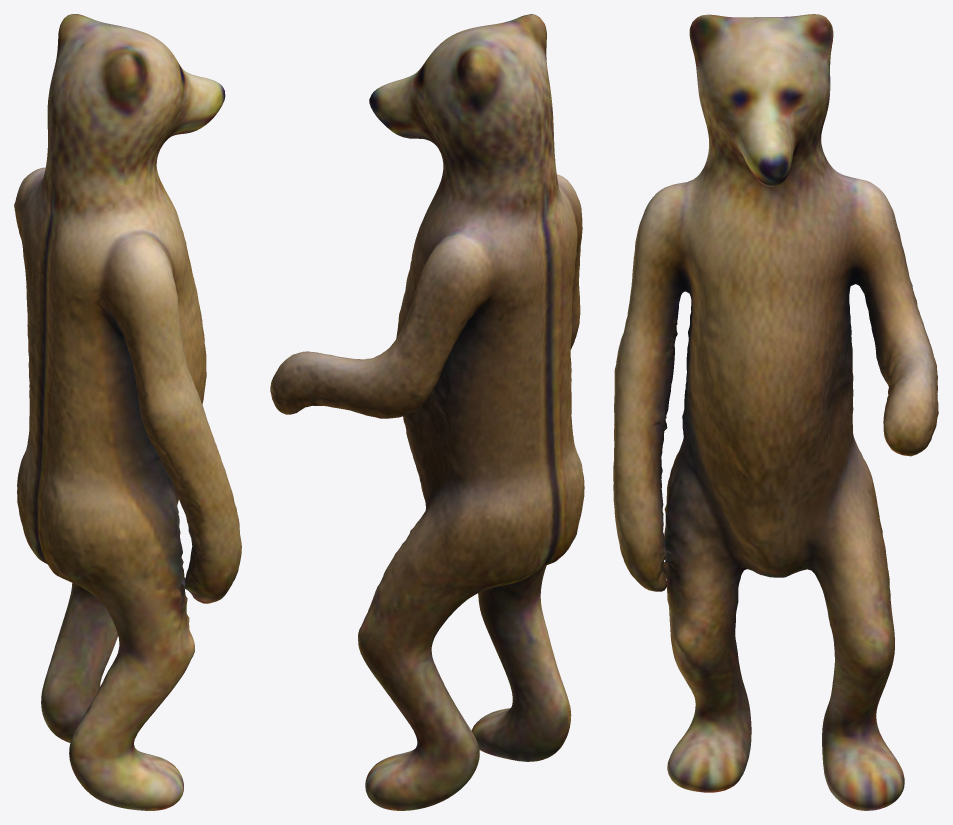
The model's file is a_standing_bear_with__0815174512_preview.fbx.
The picture shows the model from 3 angles, left to right: view 1: azimuth 30°, elevation 25°; view 2: azimuth 150°, elevation 25°; view 3: azimuth 270°, elevation 25°; orthographic projection. The views are drawn at different scales.
Parts seen in each view (by area): view 1: Mesh1; view 2: Mesh1; view 3: Mesh1.
Boxes of the visible parts, x1,y1,x2,y2 form: Mesh1: (14,14,241,810); Mesh1: (270,14,584,810); Mesh1: (613,14,938,810).
Size of the model in its own units: 37 by 120 by 46.26.
Materials: 1 (1 with a texture image).
